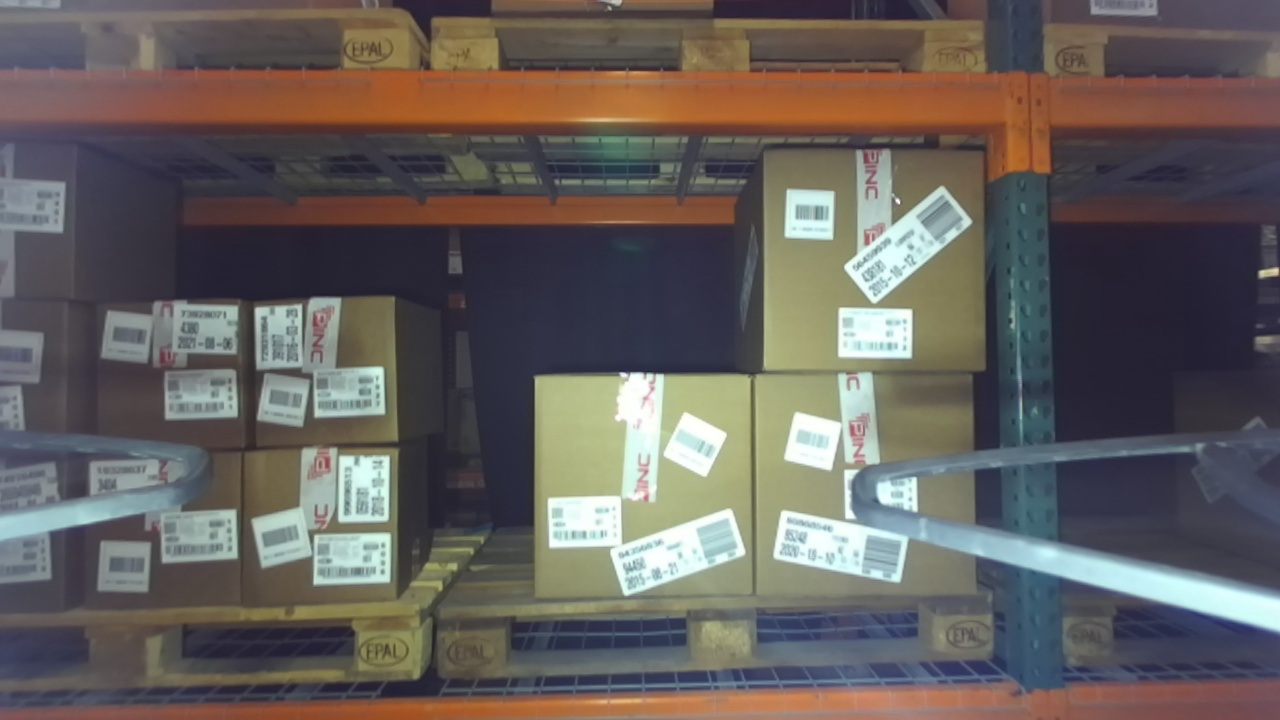box: (732, 346, 1009, 632), (716, 129, 1011, 383), (515, 354, 773, 614), (230, 432, 431, 623), (69, 439, 260, 634), (74, 282, 260, 463), (233, 276, 416, 455)
